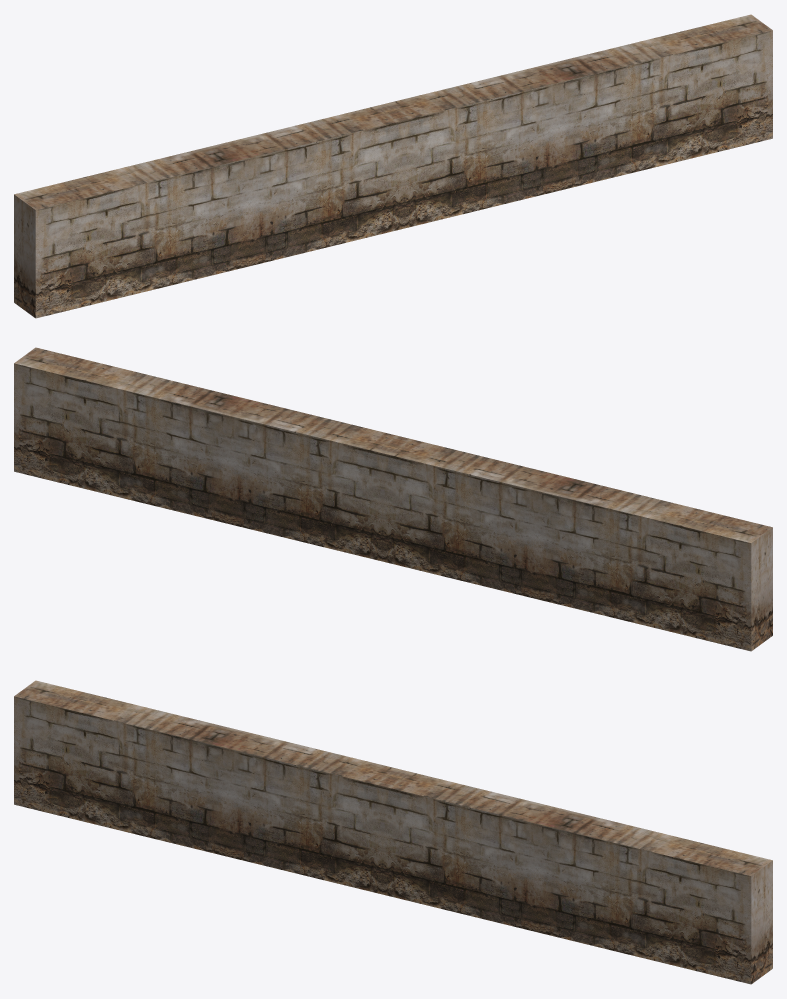
Rendered from barrier.fbx.
3 views of the same model, one above another, from view 1: azimuth 30°, elevation 25°; view 2: azimuth 150°, elevation 25°; view 3: azimuth 330°, elevation 25° (orthographic).
Visible parts, largest first — view 1: polySurface10; view 2: polySurface10; view 3: polySurface10.
Boxes of the visible parts, <box> form: polySurface10: <box>14,14,772,318</box>; polySurface10: <box>14,347,772,651</box>; polySurface10: <box>14,680,772,984</box>.
Size of the model in its own units: 10.01 by 1.41 by 0.5107.
